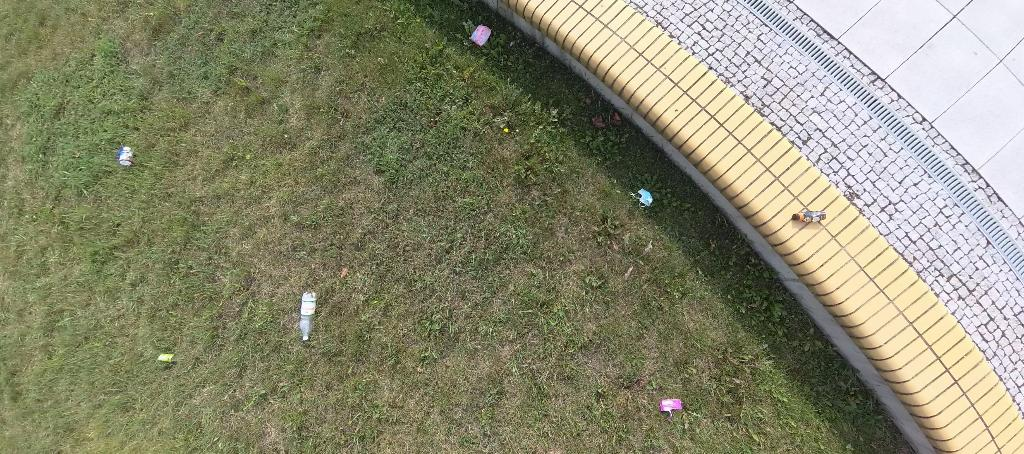garbage: (297, 289, 318, 343), (469, 21, 491, 49), (658, 398, 681, 421), (118, 144, 132, 168)
